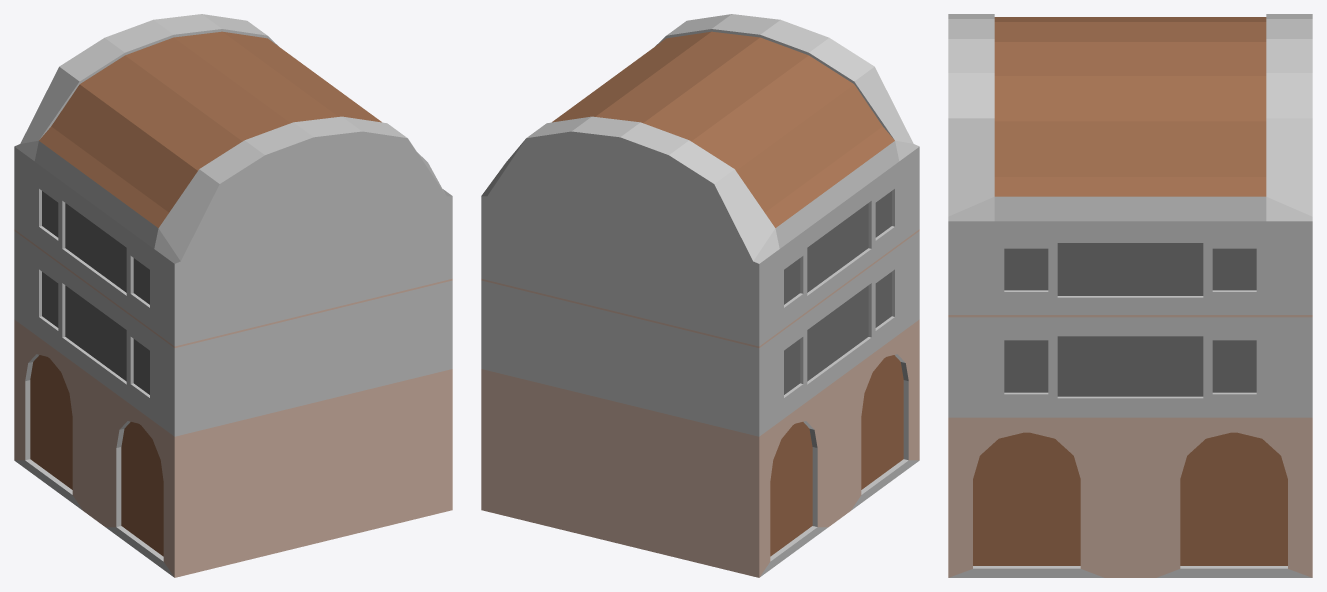
Rendered from casa2.fbx.
The picture shows the model from 3 angles, left to right: view 1: azimuth 30°, elevation 25°; view 2: azimuth 150°, elevation 25°; view 3: azimuth 270°, elevation 25°; orthographic projection. The views are drawn at different scales.
Visible parts, largest first — view 1: Cube.002; view 2: Cube.002; view 3: Cube.002.
Part boxes in pixels (x1,y1,x2,y2): Cube.002: (14,14,452,577); Cube.002: (481,14,919,577); Cube.002: (948,14,1312,577).
Bounding box in the file's own units: 159 × 223 × 159.
